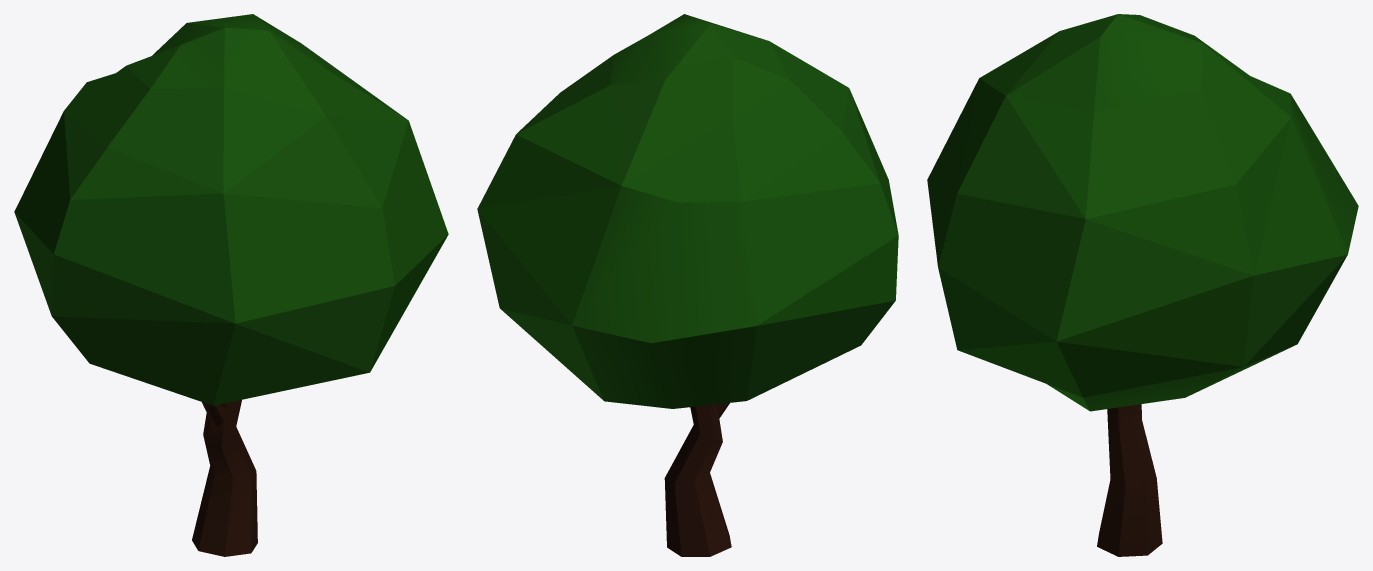
File: arbol_2.FBX
3 views of the same model, side by side, from view 1: azimuth 30°, elevation 25°; view 2: azimuth 150°, elevation 25°; view 3: azimuth 270°, elevation 25° (orthographic).
Parts seen in each view (by area): view 1: pCylinder15; view 2: pCylinder15; view 3: pCylinder15.
Boxes of the visible parts, x1=… form: pCylinder15: x1=14, y1=14, x2=448, y2=556; pCylinder15: x1=477, y1=14, x2=898, y2=556; pCylinder15: x1=927, y1=14, x2=1358, y2=556.
Size of the model in its own units: 5.28 by 7.09 by 5.26.
